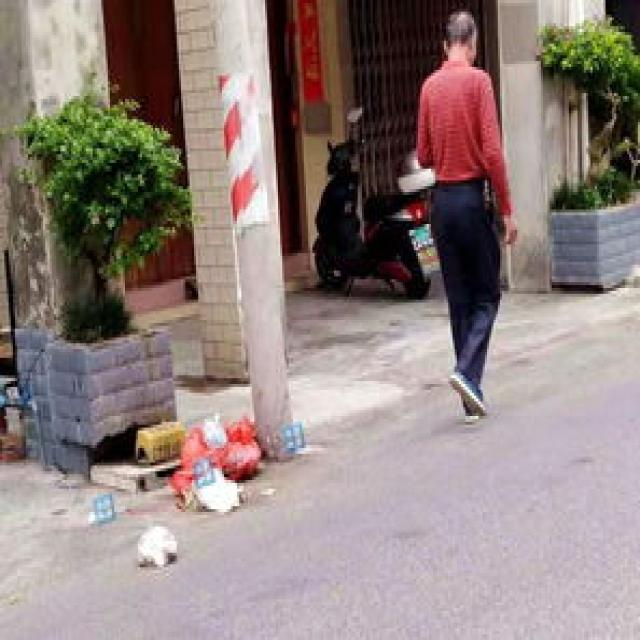garbage: (92, 416, 302, 564)
